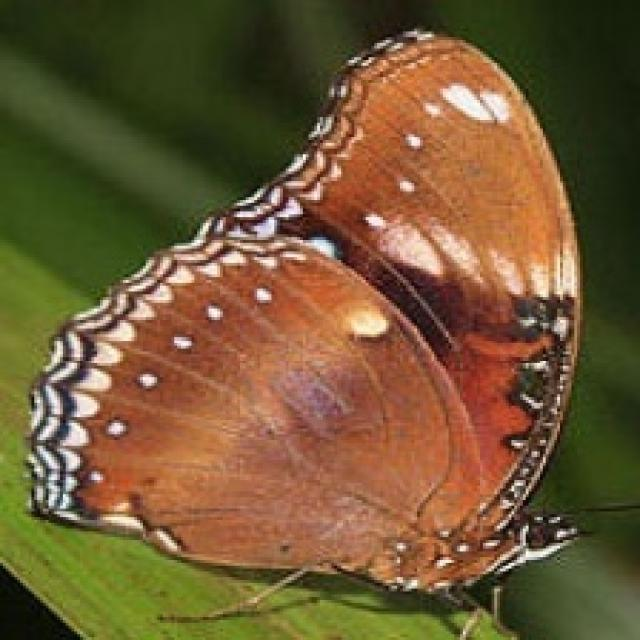butterfly: (20, 23, 637, 637)
